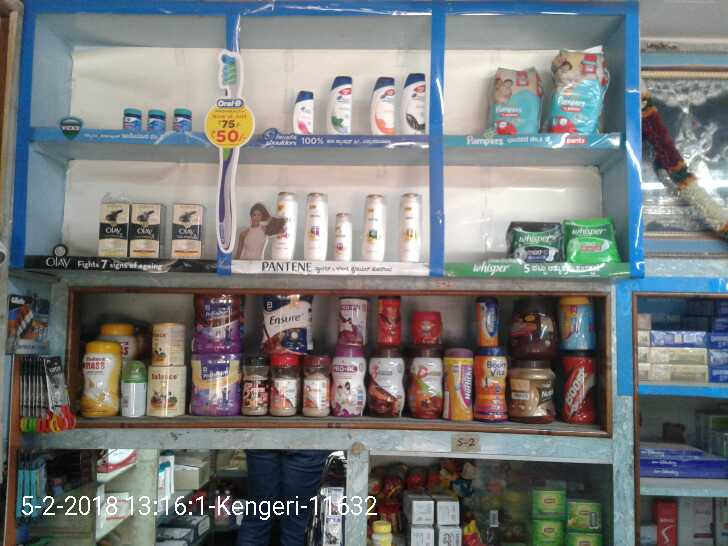beauty: (170, 200, 210, 261), (324, 71, 361, 134), (397, 191, 426, 265), (128, 205, 165, 262), (361, 188, 389, 262), (270, 187, 297, 263), (373, 68, 403, 136), (404, 68, 430, 137), (100, 203, 128, 264), (302, 197, 325, 265), (327, 207, 354, 262), (292, 85, 316, 137)
pharmacy: (546, 51, 613, 134), (484, 64, 545, 136), (571, 215, 621, 266), (511, 219, 565, 261), (170, 107, 196, 139), (118, 103, 141, 131), (146, 109, 166, 137)
